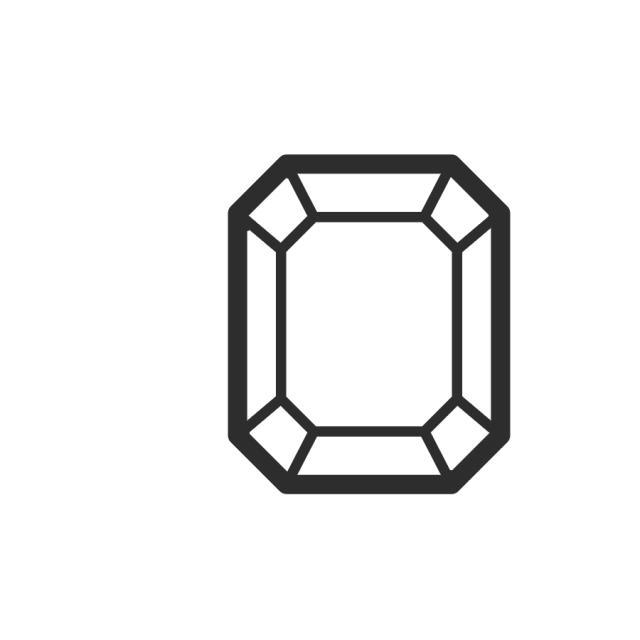emerald: (220, 149, 520, 503)
